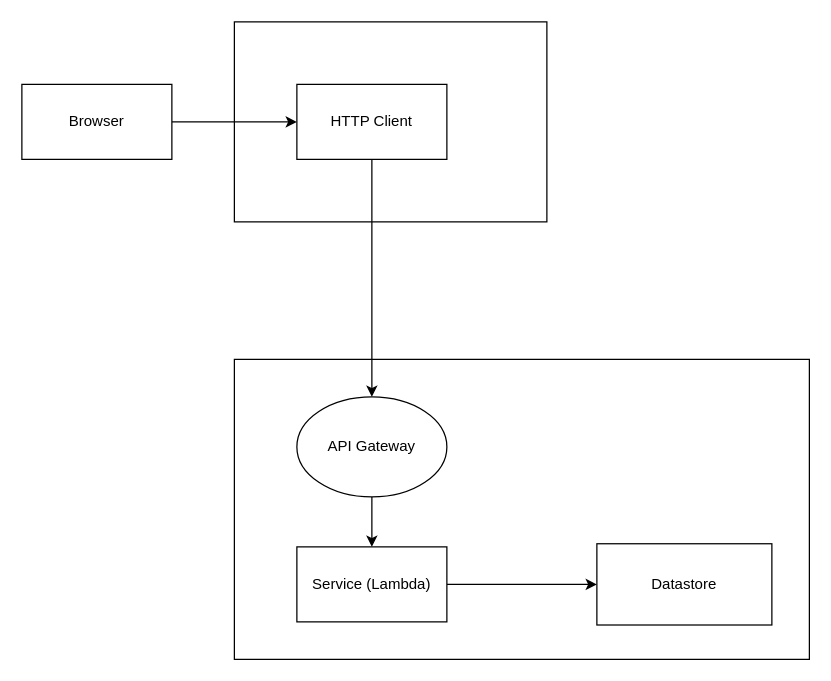
Some shapes in this 831 by 681 pixel diagram are drawn without their labels. The box of each missing label's shape, as (x1, y1, x2, y2) in pixels:
AWS: (233, 358, 809, 659)
GitHub: (233, 21, 547, 222)
